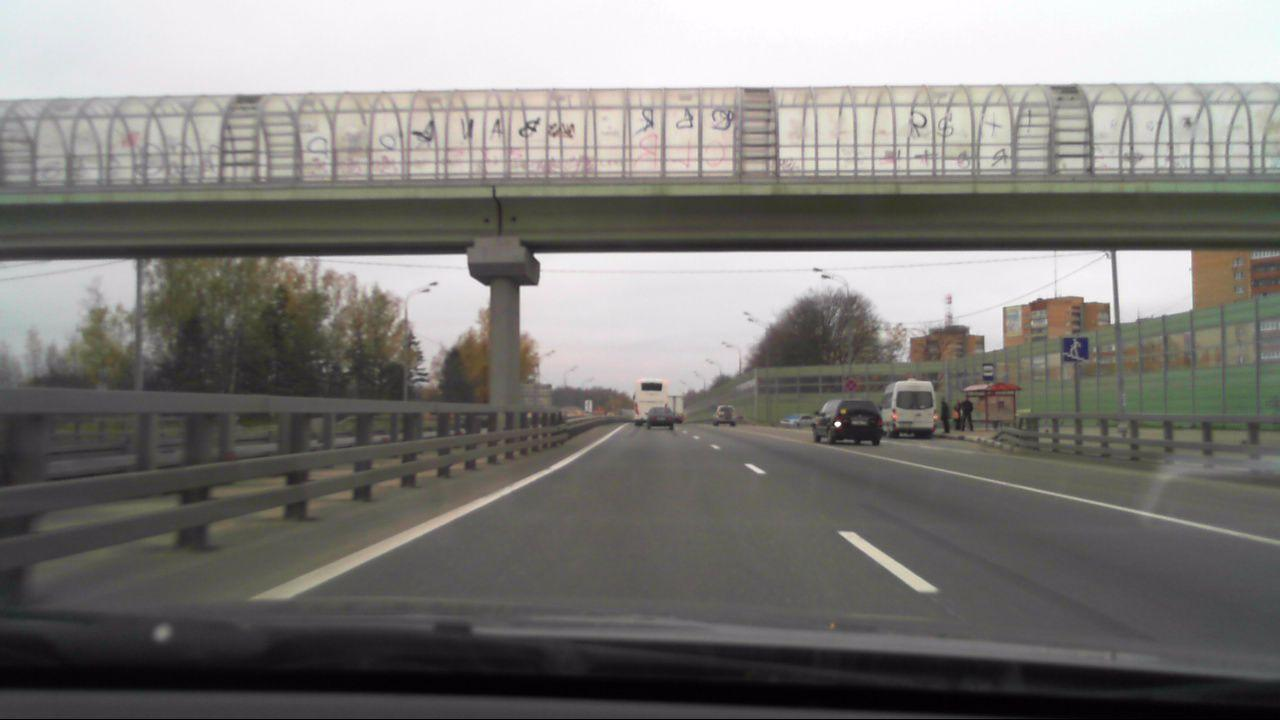3_27: (846, 380, 858, 393)
5_16: (981, 362, 995, 382)
6_7: (1063, 337, 1088, 361)
